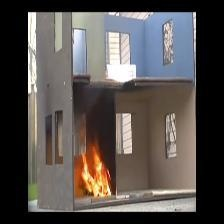fire: (73, 145, 116, 200)
